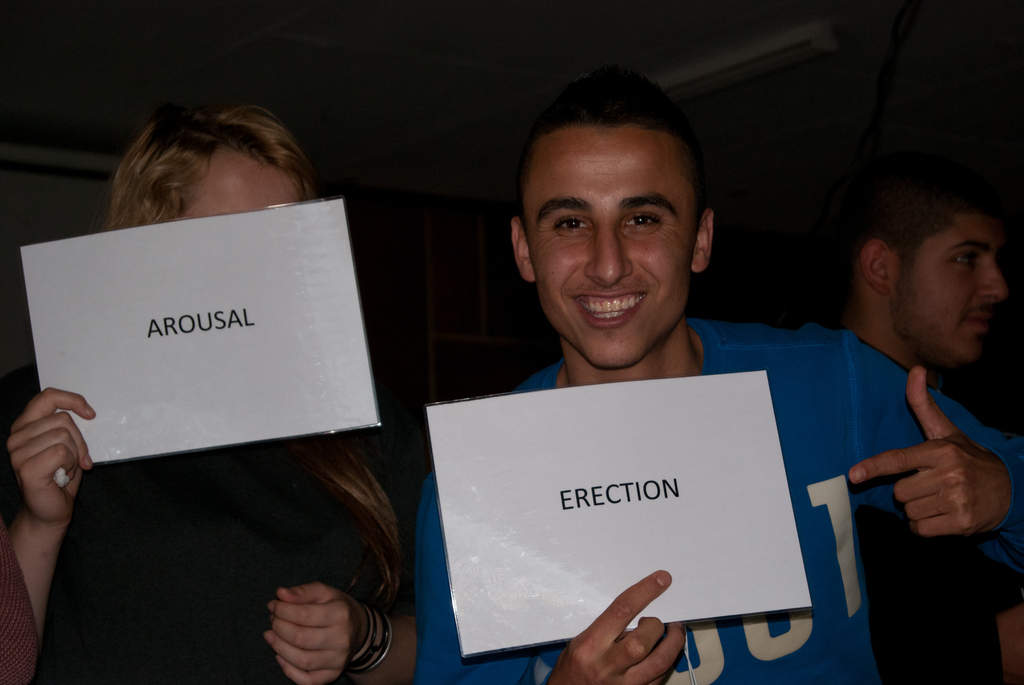Human_hand: (849, 367, 1012, 536), (544, 569, 687, 684), (7, 386, 97, 530), (263, 583, 364, 684)
